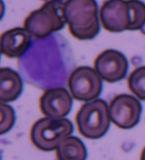M: (17, 32, 76, 89)
